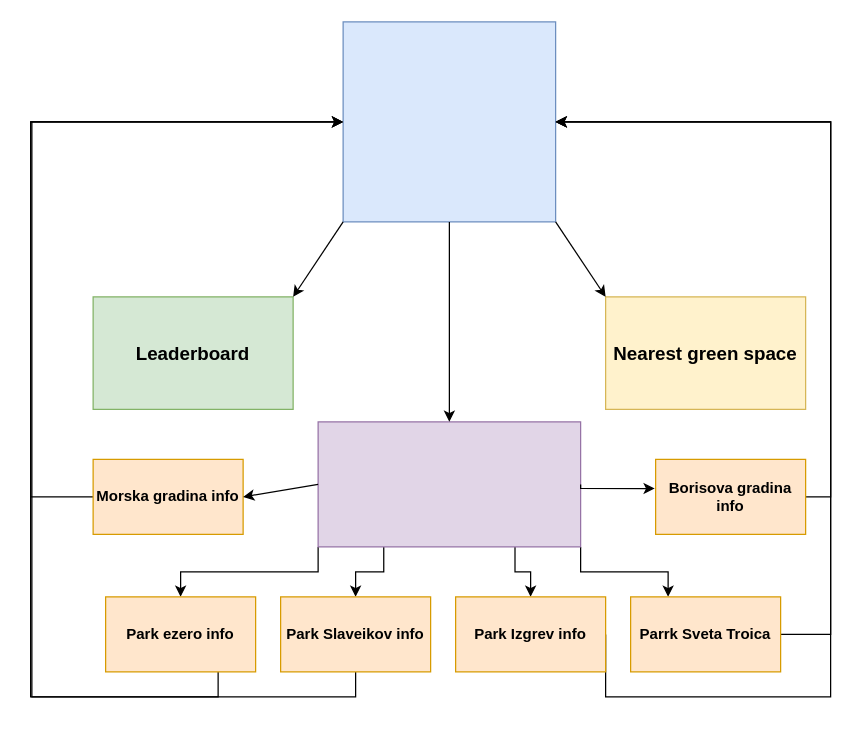
Some shapes in this 863 by 729 pixel diagram are drawn without their labels. Each missing label, with the box of its shape:
Menu: (317, 421, 581, 547)
Start: (342, 21, 556, 222)
